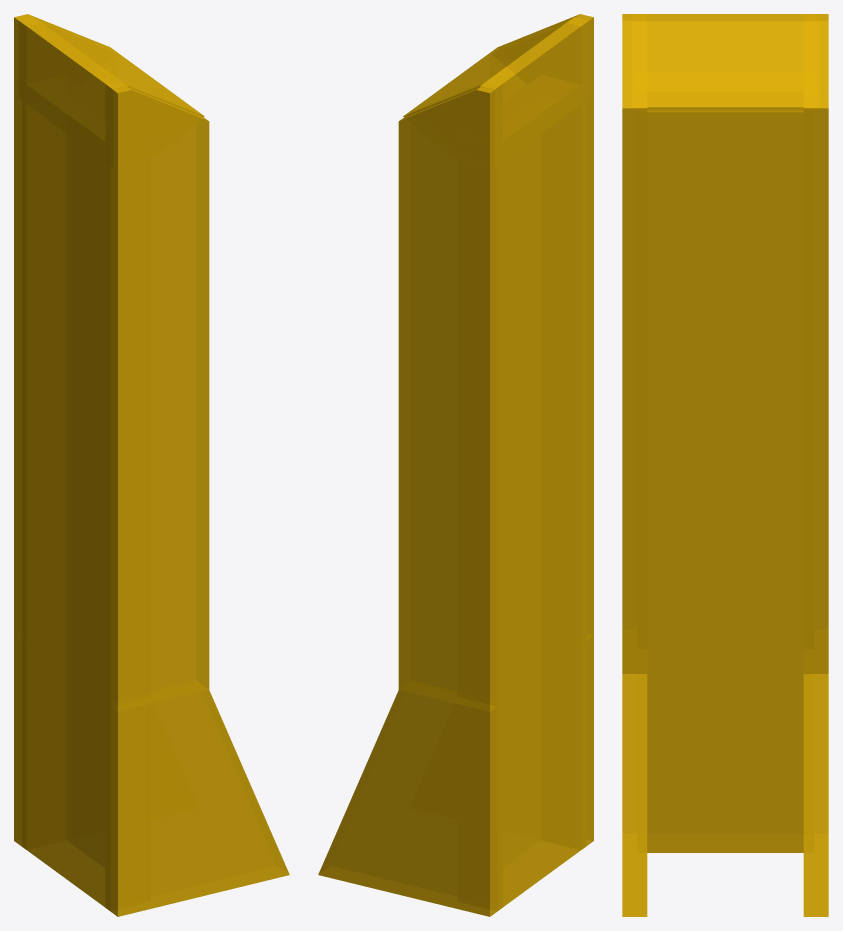
The model's file is SM_Bld_Gate_Fort_Side_01_Collision.fbx.
3 renders of one model, left to right at view 1: azimuth 30°, elevation 25°; view 2: azimuth 150°, elevation 25°; view 3: azimuth 270°, elevation 25°, orthographic.
Visible parts, largest first — view 1: SM_Bld_Gate_Fort_Side_01_Collision; view 2: SM_Bld_Gate_Fort_Side_01_Collision; view 3: SM_Bld_Gate_Fort_Side_01_Collision.
Boxes of the visible parts, x1,y1,x2,y2 form: SM_Bld_Gate_Fort_Side_01_Collision: (14,14,289,916); SM_Bld_Gate_Fort_Side_01_Collision: (318,14,593,916); SM_Bld_Gate_Fort_Side_01_Collision: (622,14,828,916).
Size of the model in its own units: 524 by 2398 by 548.
